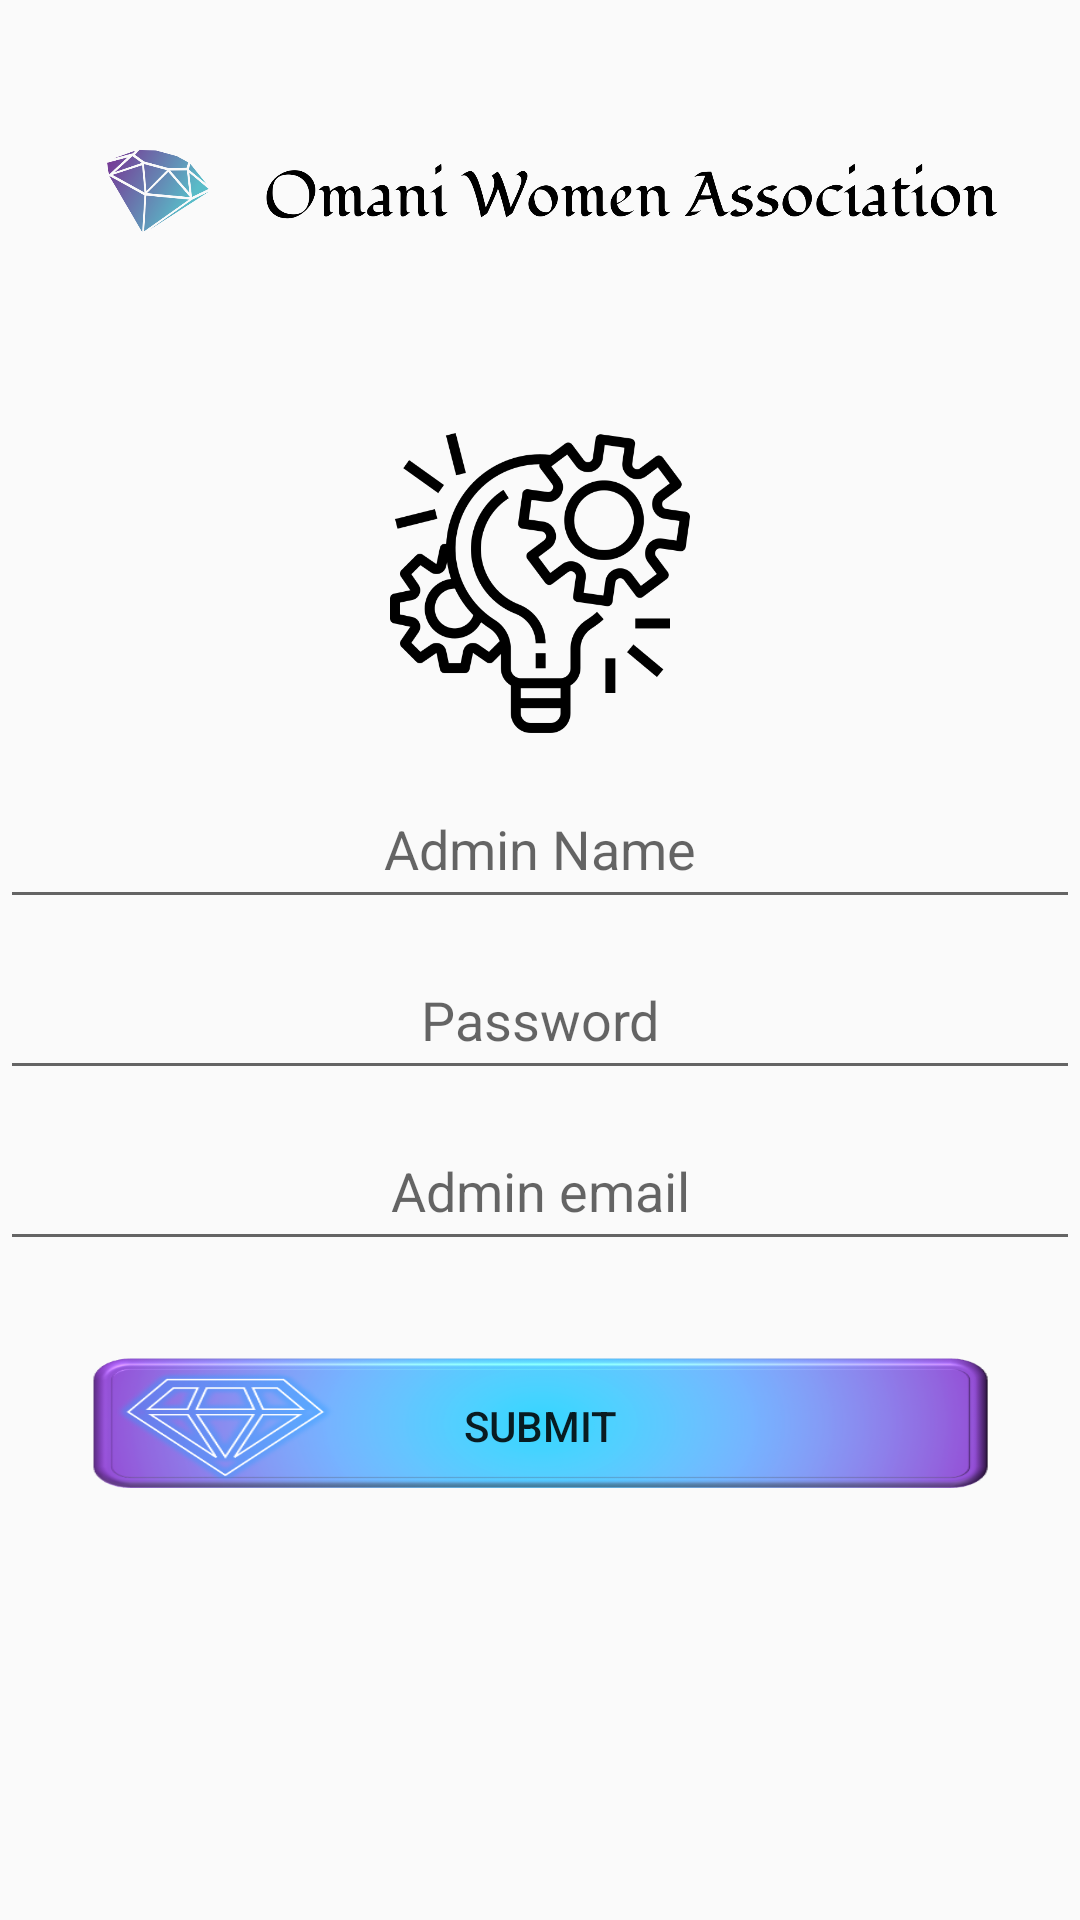

Icons on this 1080 x 1920 Android screen, each with the point to tap as (x=x, y=y):
project: (x=540, y=583)
